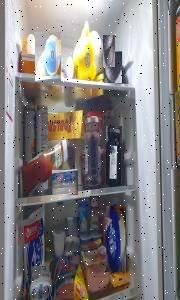Aguacate: (104, 52, 122, 84), (103, 35, 115, 68)
Yogur: (90, 196, 99, 230)
